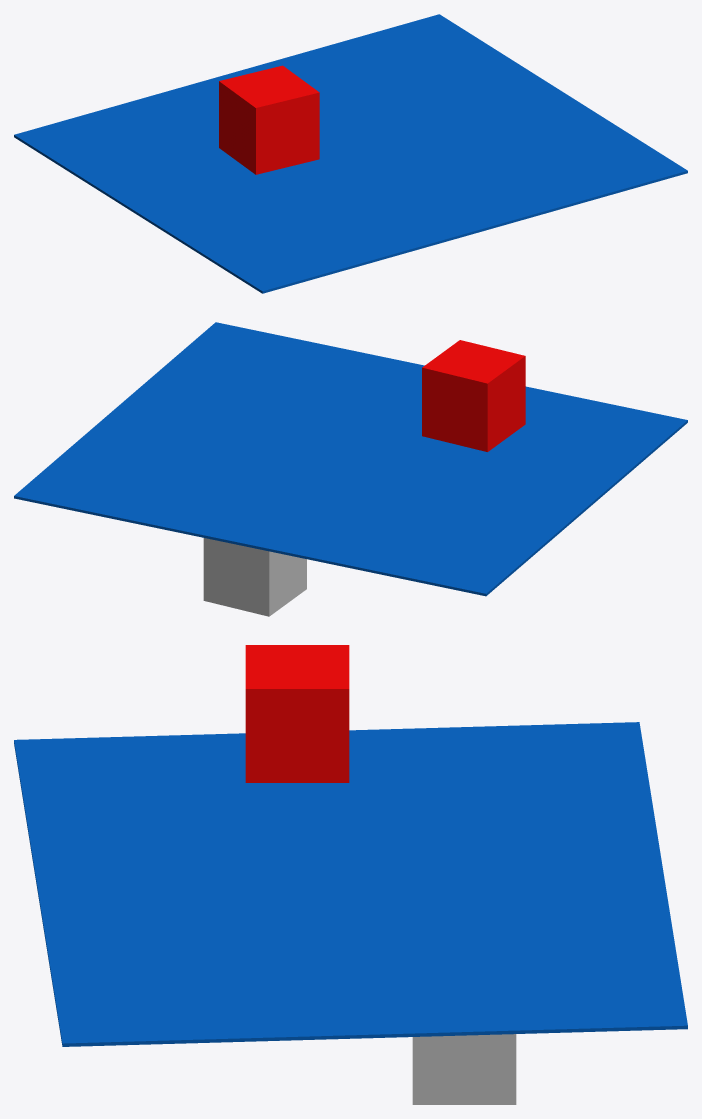
File: twoCubesWater.obj
The picture shows the model from 3 angles, top to bottom: view 1: azimuth 30°, elevation 25°; view 2: azimuth 150°, elevation 25°; view 3: azimuth 270°, elevation 25°; orthographic projection. The views are drawn at different scales.
Parts seen in each view (by area): view 1: Water_Blue, RedCube_Red; view 2: Water_Blue, RedCube_Red, Cube; view 3: Water_Blue, RedCube_Red, Cube.
Boxes of the visible parts, bbox=[...] form: Water_Blue: bbox=[14, 14, 687, 293]; RedCube_Red: bbox=[219, 65, 319, 174]; Water_Blue: bbox=[14, 322, 687, 596]; RedCube_Red: bbox=[422, 340, 525, 451]; Cube: bbox=[203, 538, 306, 616]; Water_Blue: bbox=[14, 722, 687, 1046]; RedCube_Red: bbox=[245, 645, 349, 782]; Cube: bbox=[412, 1034, 516, 1104].
Size of the model in its own units: 14.68 by 6.62 by 13.01.
